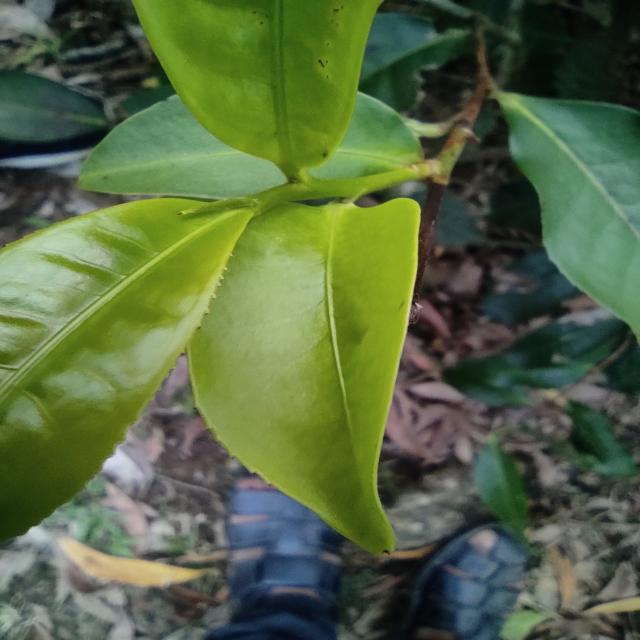Category C 4-7 days: (177, 176, 481, 578)
